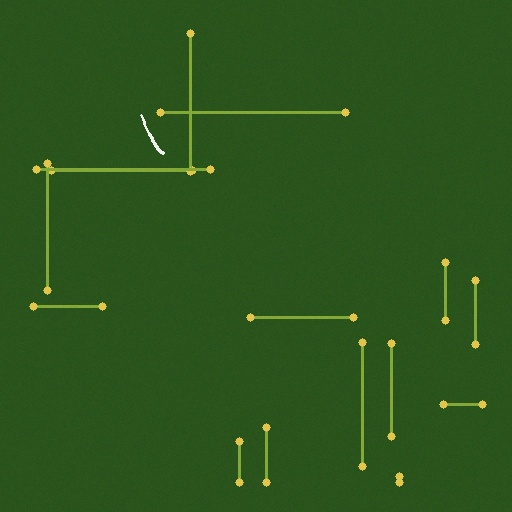scratch: (136, 110, 168, 158)
